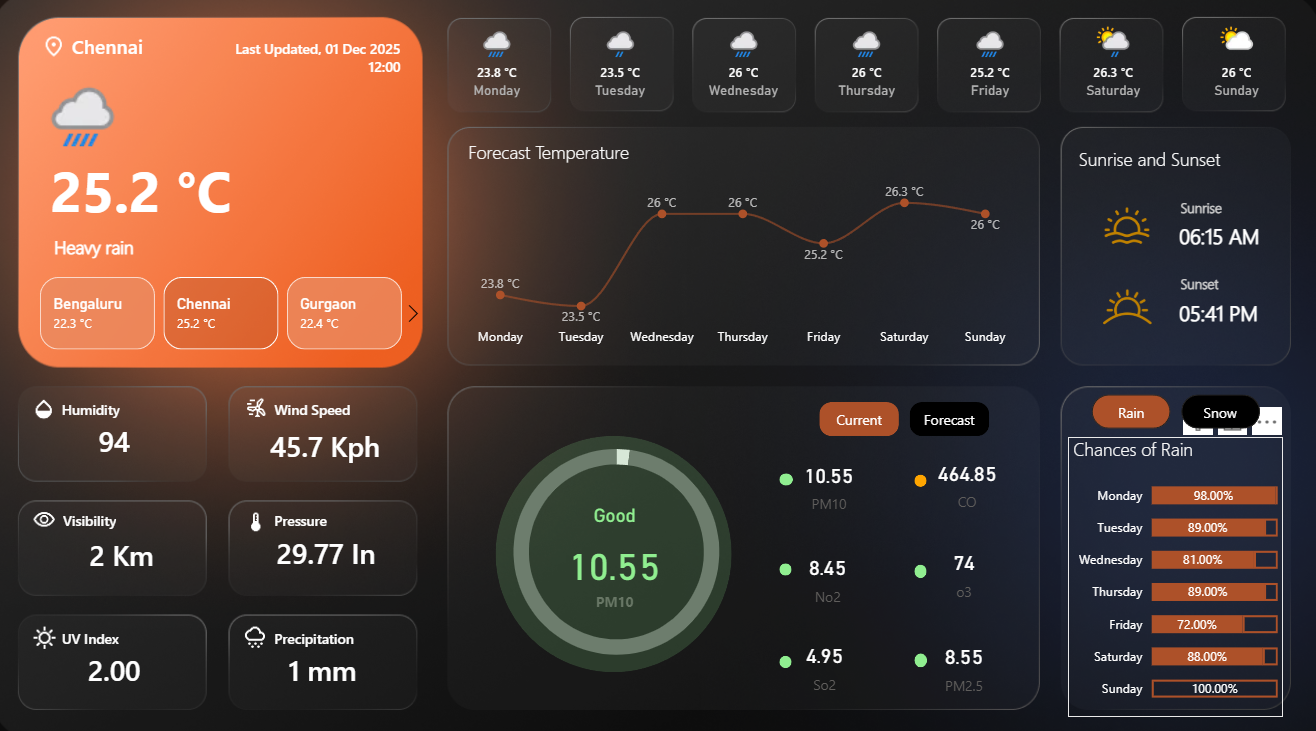

What the dashboard file says about the page in this screenshot:
{"tool":"powerbi","page":{"name":"Page 1","canvas":[1280,720],"ordinal":0},"visuals":[{"type":"advancedSlicerVisual","fields":{"Values":["Cities.location.name"]},"box":[21.1,270.6,400.9,80.7],"z":0},{"type":"donutChart","title":"Donut","fields":{"Y":["Avg(Current.current.air_quality.pm10)","_Measures.Left_PM_value"]},"box":[466.7,411.7,270,258.3],"z":0,"group":"g2"},{"type":"card","fields":{"Values":["Avg(Current.current.air_quality.pm10)"]},"box":[757.9,441.4,98.8,71.2],"z":0,"group":"g1"},{"type":"card","fields":{"Values":["Avg(Current.current.air_quality.co)"]},"box":[894.2,438.8,92.9,72.4],"z":1000,"group":"g1"},{"type":"card","fields":{"Values":["Avg(Current.current.air_quality.pm10)"]},"box":[528.4,495,143.3,111.7],"z":1000,"group":"g2"},{"type":"shape","box":[59,233.6,194.9,24.7],"z":2000},{"type":"shape","title":"Circle","box":[485,428.4,228,228.3],"z":2000,"group":"g2"},{"type":"card","fields":{"Values":["Sum(Current.current.air_quality.o3)"]},"box":[888.2,520.8,98.9,80.8],"z":2000,"group":"g1"},{"type":"group","id":"g1","title":"CurrentAQ","box":[752.5,438.8,235,247.5],"z":3000,"group":"g2"},{"type":"card","fields":{"Values":["Sum(Current.current.air_quality.no2)"]},"box":[755.7,530.8,98.8,71.2],"z":3000,"group":"g1"},{"type":"shape","box":[55,145,195,91.7],"z":4000},{"type":"card","fields":{"Values":["Sum(Current.current.air_quality.pm2_5)"]},"box":[888,615.6,98.8,71.2],"z":4000,"group":"g1"},{"type":"shape","box":[75.5,34.3,120.8,37],"z":5000},{"type":"card","fields":{"Values":["Sum(Current.current.air_quality.so2)"]},"box":[752.5,619.8,100,62.5],"z":5000,"group":"g1"},{"type":"shape","box":[758.7,465.5,13.3,12.1],"z":6000,"group":"g1"},{"type":"shape","box":[220.8,33.8,172.5,57.9],"z":7000},{"type":"shape","box":[758.7,552.4,12.1,12.1],"z":7000,"group":"g1"},{"type":"image","box":[42.5,34.3,32.9,37],"z":8000},{"type":"shape","box":[758.4,641.3,12.1,12.1],"z":8000,"group":"g1"},{"type":"cardVisual","fields":{"Data":["Min(Current.current.condition.icon)"]},"box":[23.3,53.3,116.7,121.7],"z":9000},{"type":"shape","box":[889,466.7,12.1,12.1],"z":9000,"group":"g1"},{"type":"shape","box":[65.9,385.6,70,32.9],"z":10000},{"type":"shape","box":[889,553.6,12.1,13.3],"z":10000,"group":"g1"},{"type":"image","box":[32.9,385.6,32.9,32.9],"z":11000},{"type":"shape","box":[888.7,638.8,12.5,13.8],"z":11000,"group":"g1"},{"type":"shape","box":[271.7,385.6,81,32.9],"z":12000},{"type":"shape","box":[271.7,494,70,32.9],"z":13000},{"type":"shape","box":[67.2,494,70,32.9],"z":14000},{"type":"shape","box":[271.7,606.5,85.1,32.9],"z":15000},{"type":"shape","box":[65.9,606.5,70,32.9],"z":16000},{"type":"image","box":[30.2,606.5,38.4,32.9],"z":17000},{"type":"image","box":[234.6,606.5,37,32.9],"z":18000},{"type":"image","box":[234.6,495.4,38.4,31.6],"z":19000},{"type":"image","box":[234.6,385.6,41.2,30.2],"z":20000},{"type":"image","box":[32.6,493.4,33.8,32.6],"z":21000},{"type":"card","fields":{"Values":["Sum(Current.current.humidity)"]},"box":[82.3,402.1,70,65.9],"z":22000},{"type":"card","fields":{"Values":["_Measures.Current_Wind_Speed"]},"box":[253.9,406.2,134.5,65.9],"z":23000},{"type":"card","fields":{"Values":["_Measures.Current_Visibility"]},"box":[75,511.2,98.8,66.2],"z":24000},{"type":"card","fields":{"Values":["_Measures.Current_Pressure"]},"box":[266.2,510.5,109.8,65.9],"z":25000},{"type":"card","fields":{"Values":["Sum(Current.current.uv)"]},"box":[82.3,623,70,65.9],"z":26000},{"type":"card","fields":{"Values":["_Measures.Current_Precipitation"]},"box":[275.8,623,83.7,65.9],"z":27000},{"type":"advancedSlicerVisual","fields":{"Values":["Forecast_Day.DayName"]},"box":[425.4,22,837.1,98.8],"z":28000},{"type":"lineChart","title":"Forecast Temperature","fields":{"Category":["Forecast_Day.DayName"],"Y":["Sum(Forecast_Day.forecast.forecastday.day.avgtemp_c)"]},"box":[453.6,142.4,540.5,208.7],"z":29000},{"type":"shape","box":[1032.7,131.5,152,57.9],"z":30000},{"type":"shape","box":[1144.7,212.3,88.1,45.8],"z":31000},{"type":"shape","box":[1144.7,289.5,88.1,39.8],"z":32000},{"type":"shape","box":[1145.9,184.6,55.5,45.8],"z":33000},{"type":"shape","box":[1145.9,258.2,55.5,45.8],"z":34000},{"type":"image","box":[1061.7,199.1,66.4,53.1],"z":35000},{"type":"image","box":[1053.2,267.8,83.2,72.4],"z":36000},{"type":"hundredPercentStackedBarChart","title":"Chances of Rain","fields":{"Category":["Forecast_Day.DayName"],"Y":["Sum(Forecast_Day.forecast.forecastday.day.daily_chance_of_rain)","_Measures.Chances_od_rain"]},"box":[1037.2,429.4,207.8,270.1],"z":37000},{"type":"bookmarkNavigator","box":[797.8,395.6,164.4,33.3],"z":39000},{"type":"bookmarkNavigator","title":"Rain Snow BNavi","box":[1060,388.3,163.3,33.3],"z":40000},{"type":"group","id":"g2","title":"CurrentAQ","box":[466.7,411.7,520.8,274.6],"z":41000}]}

Visuals, with their boxes in screenshot pixels (x1, y1, x2, y2), scaled from the page's 1280x720 canvas onto the 1316x731 screenshot:
advancedSlicerVisual - Cities.location.name: [x1=22, y1=275, x2=434, y2=357]
"Donut" donutChart: [x1=480, y1=418, x2=757, y2=680]
card - Avg(Current.current.air_quality.pm10): [x1=779, y1=448, x2=881, y2=520]
card - Avg(Current.current.air_quality.co): [x1=919, y1=446, x2=1015, y2=519]
card - Avg(Current.current.air_quality.pm10): [x1=543, y1=503, x2=691, y2=616]
shape: [x1=61, y1=237, x2=261, y2=262]
"Circle" shape: [x1=499, y1=435, x2=733, y2=667]
card - Sum(Current.current.air_quality.o3): [x1=913, y1=529, x2=1015, y2=611]
"CurrentAQ" group: [x1=774, y1=446, x2=1015, y2=697]
card - Sum(Current.current.air_quality.no2): [x1=777, y1=539, x2=879, y2=611]
shape: [x1=57, y1=147, x2=257, y2=240]
card - Sum(Current.current.air_quality.pm2_5): [x1=913, y1=625, x2=1015, y2=697]
shape: [x1=78, y1=35, x2=202, y2=72]
card - Sum(Current.current.air_quality.so2): [x1=774, y1=629, x2=876, y2=693]
shape: [x1=780, y1=473, x2=794, y2=485]
shape: [x1=227, y1=34, x2=404, y2=93]
shape: [x1=780, y1=561, x2=792, y2=573]
image: [x1=44, y1=35, x2=78, y2=72]
shape: [x1=780, y1=651, x2=792, y2=663]
cardVisual - Min(Current.current.condition.icon): [x1=24, y1=54, x2=144, y2=178]
shape: [x1=914, y1=474, x2=926, y2=486]
shape: [x1=68, y1=391, x2=140, y2=425]
shape: [x1=914, y1=562, x2=926, y2=576]
image: [x1=34, y1=391, x2=68, y2=425]
shape: [x1=914, y1=649, x2=927, y2=663]
shape: [x1=279, y1=391, x2=363, y2=425]
shape: [x1=279, y1=502, x2=351, y2=535]
shape: [x1=69, y1=502, x2=141, y2=535]
shape: [x1=279, y1=616, x2=367, y2=649]
shape: [x1=68, y1=616, x2=140, y2=649]
image: [x1=31, y1=616, x2=71, y2=649]
image: [x1=241, y1=616, x2=279, y2=649]
image: [x1=241, y1=503, x2=281, y2=535]
image: [x1=241, y1=391, x2=284, y2=422]
image: [x1=34, y1=501, x2=68, y2=534]
card - Sum(Current.current.humidity): [x1=85, y1=408, x2=157, y2=475]
card - _Measures.Current_Wind_Speed: [x1=261, y1=412, x2=399, y2=479]
card - _Measures.Current_Visibility: [x1=77, y1=519, x2=179, y2=586]
card - _Measures.Current_Pressure: [x1=274, y1=518, x2=387, y2=585]
card - Sum(Current.current.uv): [x1=85, y1=633, x2=157, y2=699]
card - _Measures.Current_Precipitation: [x1=284, y1=633, x2=370, y2=699]
advancedSlicerVisual - Forecast_Day.DayName: [x1=437, y1=22, x2=1298, y2=123]
"Forecast Temperature" lineChart: [x1=466, y1=145, x2=1022, y2=356]
shape: [x1=1062, y1=134, x2=1218, y2=192]
shape: [x1=1177, y1=216, x2=1267, y2=262]
shape: [x1=1177, y1=294, x2=1267, y2=334]
shape: [x1=1178, y1=187, x2=1235, y2=234]
shape: [x1=1178, y1=262, x2=1235, y2=309]
image: [x1=1092, y1=202, x2=1160, y2=256]
image: [x1=1083, y1=272, x2=1168, y2=345]
"Chances of Rain" hundredPercentStackedBarChart: [x1=1066, y1=436, x2=1280, y2=710]
bookmarkNavigator: [x1=820, y1=402, x2=989, y2=435]
"Rain Snow BNavi" bookmarkNavigator: [x1=1090, y1=394, x2=1258, y2=428]
"CurrentAQ" group: [x1=480, y1=418, x2=1015, y2=697]
